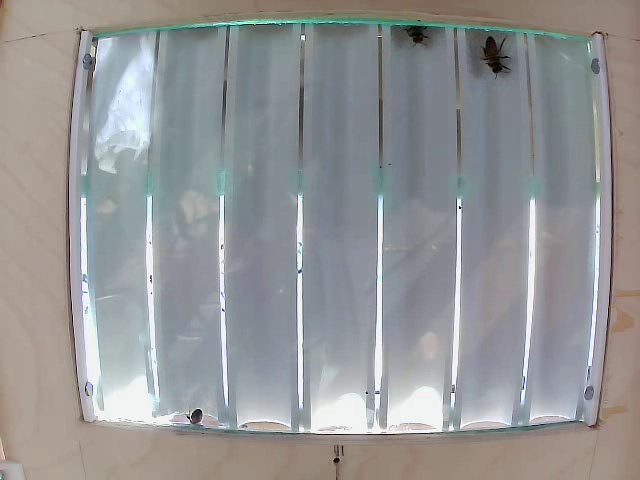bee: (478, 30, 514, 78), (399, 18, 426, 50)
